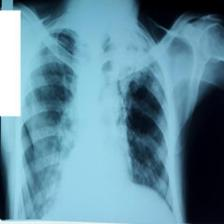tuberculosis: (20, 12, 180, 220)
